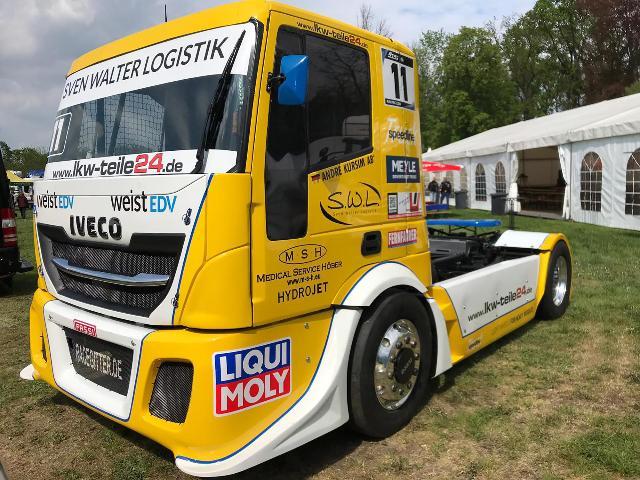truck: (27, 25, 596, 457)
